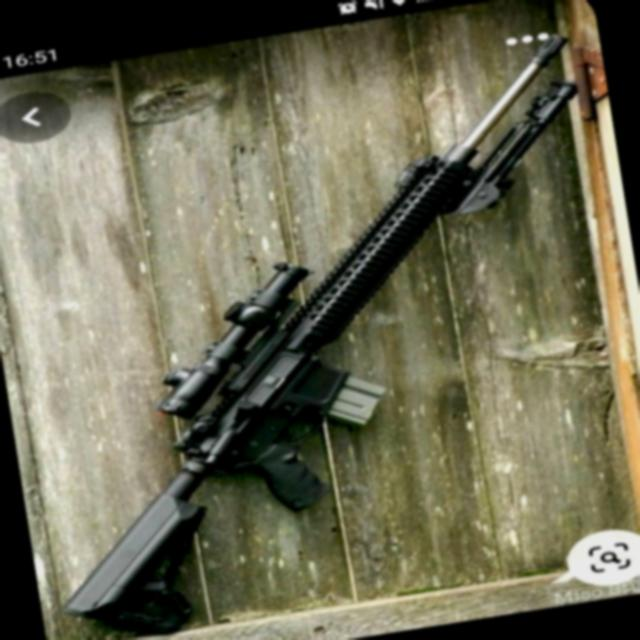m16: (30, 183, 464, 640)
